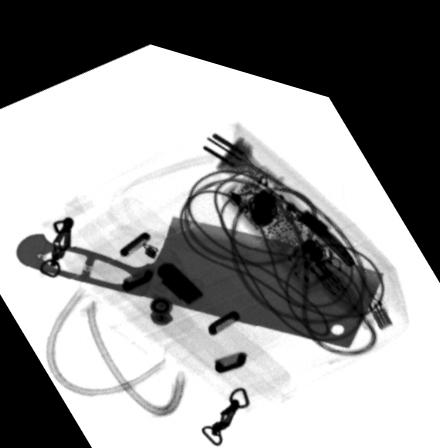Knife: (12, 203, 383, 328)
